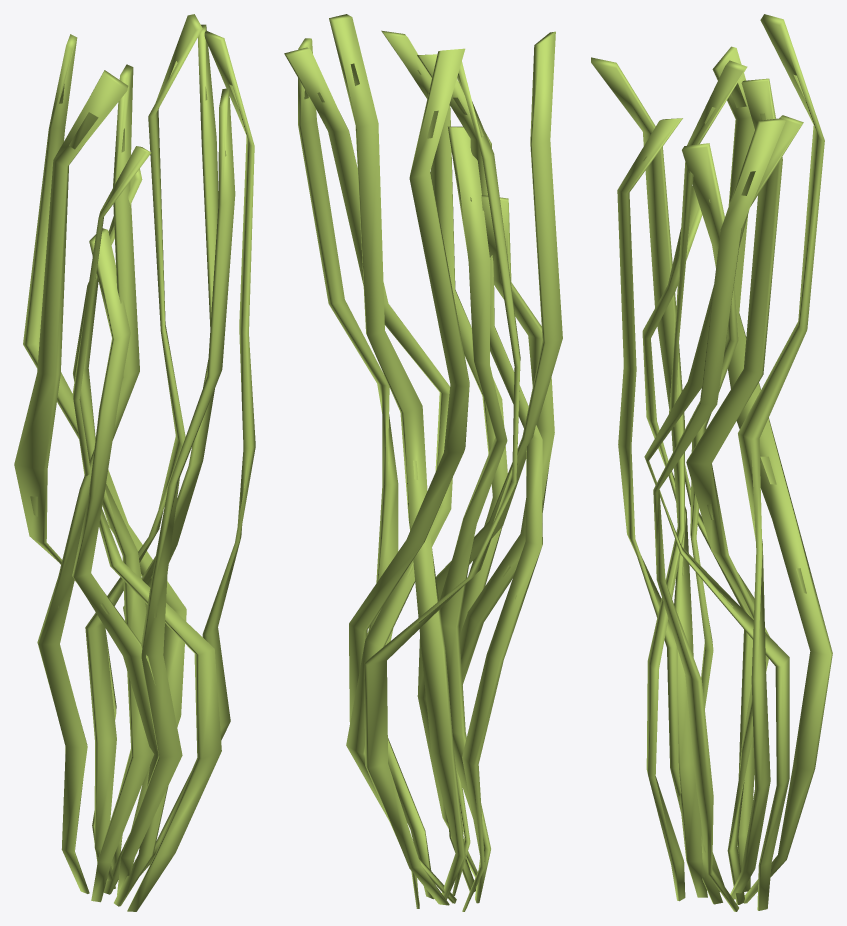
File: plant2.fbx
3 renders of one model, left to right at view 1: azimuth 30°, elevation 25°; view 2: azimuth 150°, elevation 25°; view 3: azimuth 270°, elevation 25°, orthographic. The views are drawn at different scales.
Parts seen in each view (by area): view 1: node_id30; view 2: node_id30; view 3: node_id30.
Part boxes in pixels (x1=…): node_id30: x1=14, y1=14, x2=255, y2=911; node_id30: x1=284, y1=14, x2=562, y2=911; node_id30: x1=591, y1=14, x2=832, y2=911.
Size of the model in its own units: 0.1422 by 0.512 by 0.1284.
Materials: 1 (1 with a texture image).
